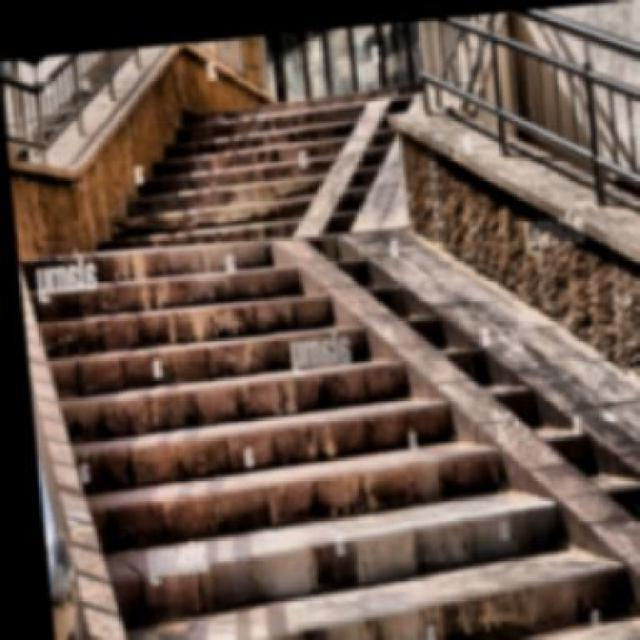stair: (20, 203, 608, 639), (99, 101, 368, 234)
